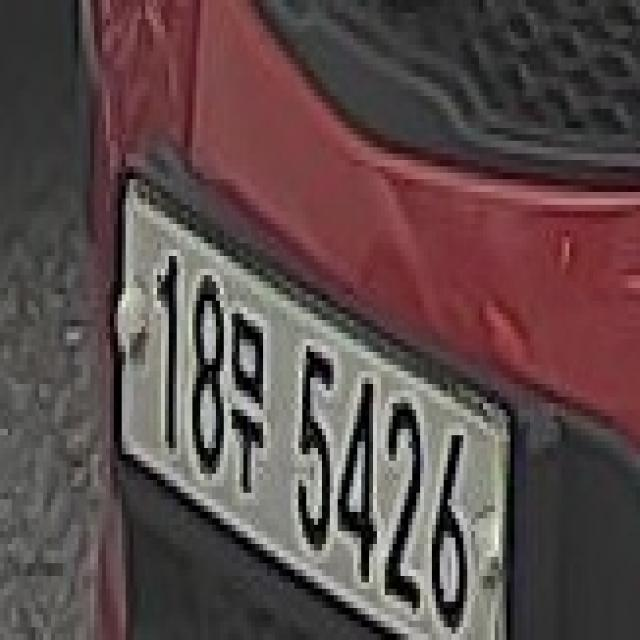1: (149, 236, 185, 474)
2: (377, 371, 436, 640)
4: (338, 352, 381, 608)
5: (286, 320, 338, 589)
6: (428, 396, 475, 634)
8: (192, 243, 228, 512)
license_plate: (106, 134, 561, 640)
mu: (228, 282, 275, 524)
